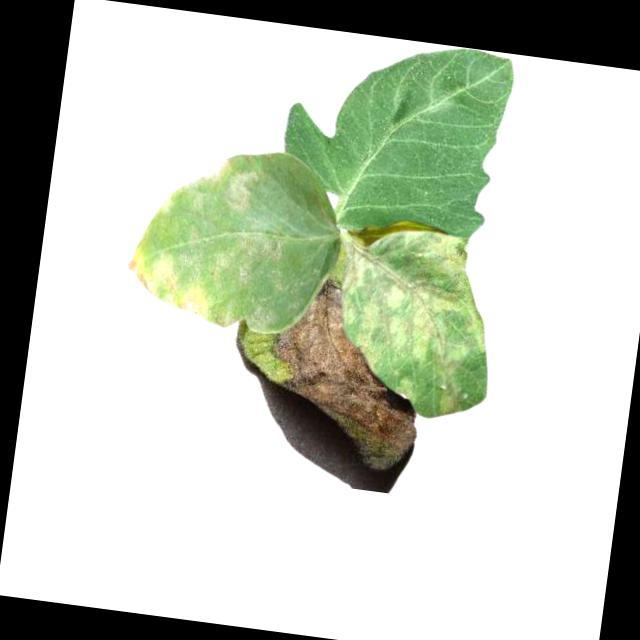Late_blight: (327, 220, 506, 426), (258, 268, 435, 474), (124, 242, 219, 321), (186, 151, 260, 215), (238, 227, 288, 262)
healthy: (272, 25, 521, 247)
